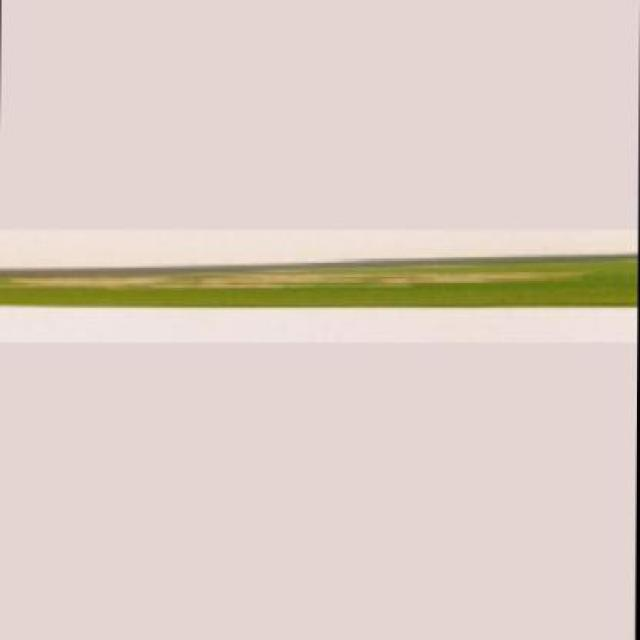Brown_Spot: (0, 251, 638, 317)
